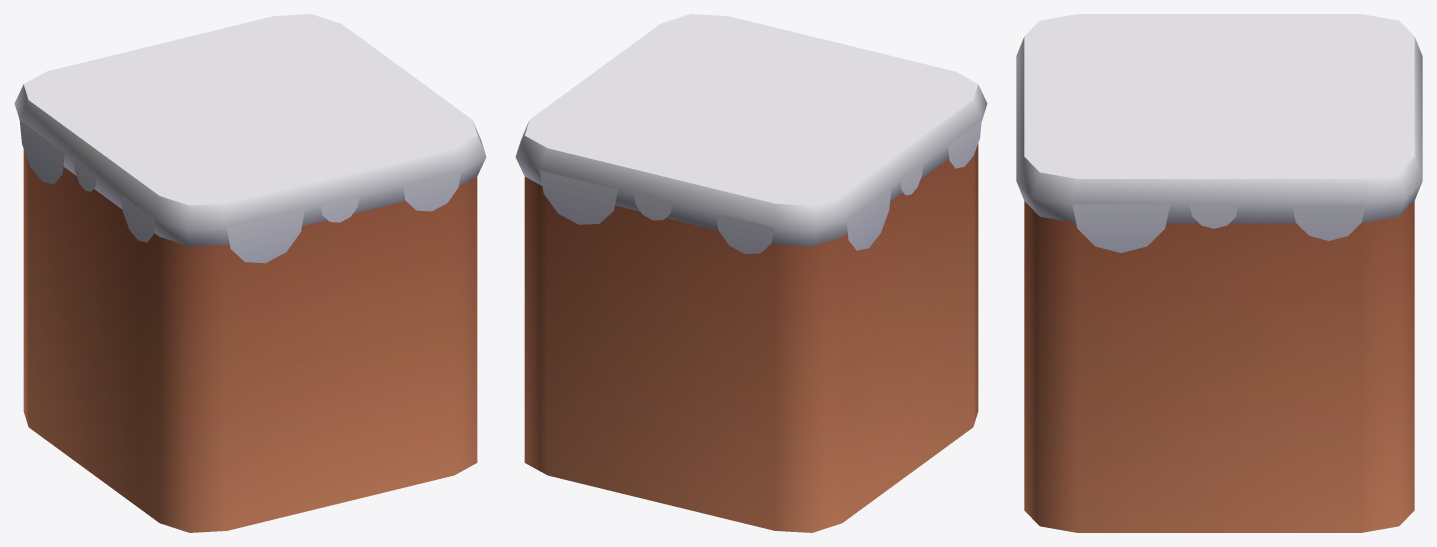
File: kenney-platformer-block-snow-overhang-large-tall.glb
3 renders of one model, left to right at view 1: azimuth 30°, elevation 25°; view 2: azimuth 150°, elevation 25°; view 3: azimuth 270°, elevation 25°, orthographic. The views are drawn at different scales.
Parts seen in each view (by area): view 1: block-snow-overhang-large-tall; view 2: block-snow-overhang-large-tall; view 3: block-snow-overhang-large-tall.
Part boxes in pixels (<box>): block-snow-overhang-large-tall: <box>14,14,486,532</box>; block-snow-overhang-large-tall: <box>515,14,987,532</box>; block-snow-overhang-large-tall: <box>1016,14,1422,532</box>.
Bounding box in the file's own units: 2.08 × 2 × 2.08.
1 material, 1 textured.
